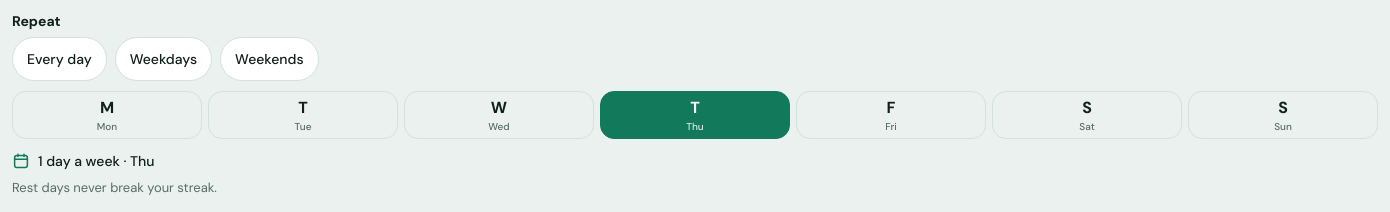
Test: DayPicker › says to pick at least one day when none are chosen
What coordinates should you click on to do the following:
click the button with aria-label "Thursday"
I would click on:
 (695, 115)
Its box is top-left (600, 91), bottom-right (790, 139).
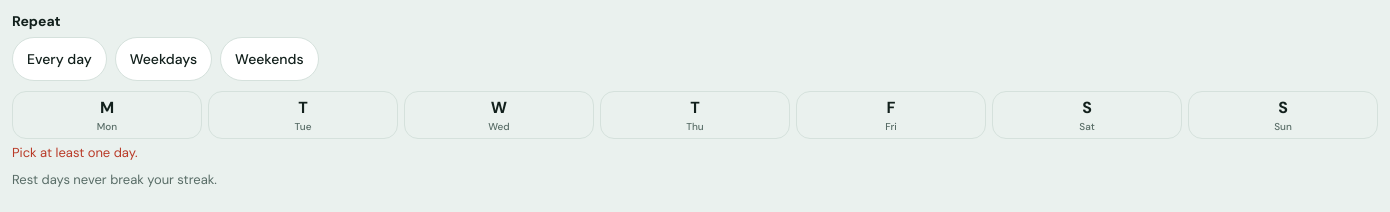
Expected: the message reads "Pick at least one day.", top-left (12, 144), bottom-right (138, 161)
